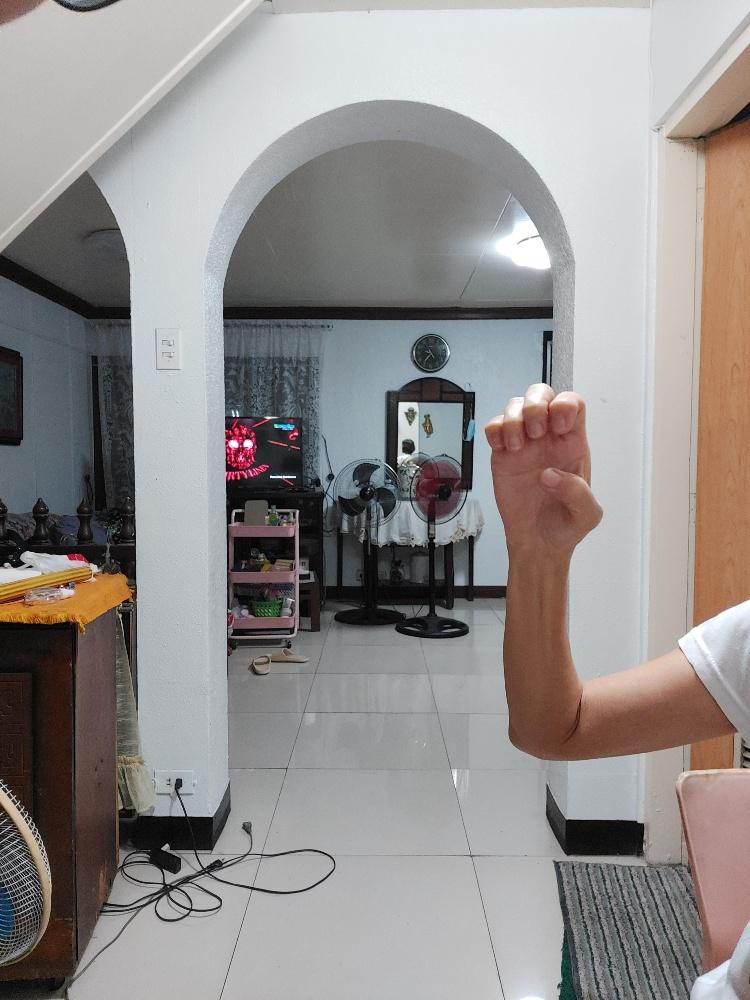e: (483, 381, 603, 556)
